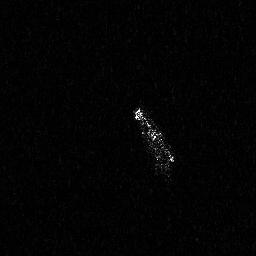ship: (130, 105, 176, 185)
